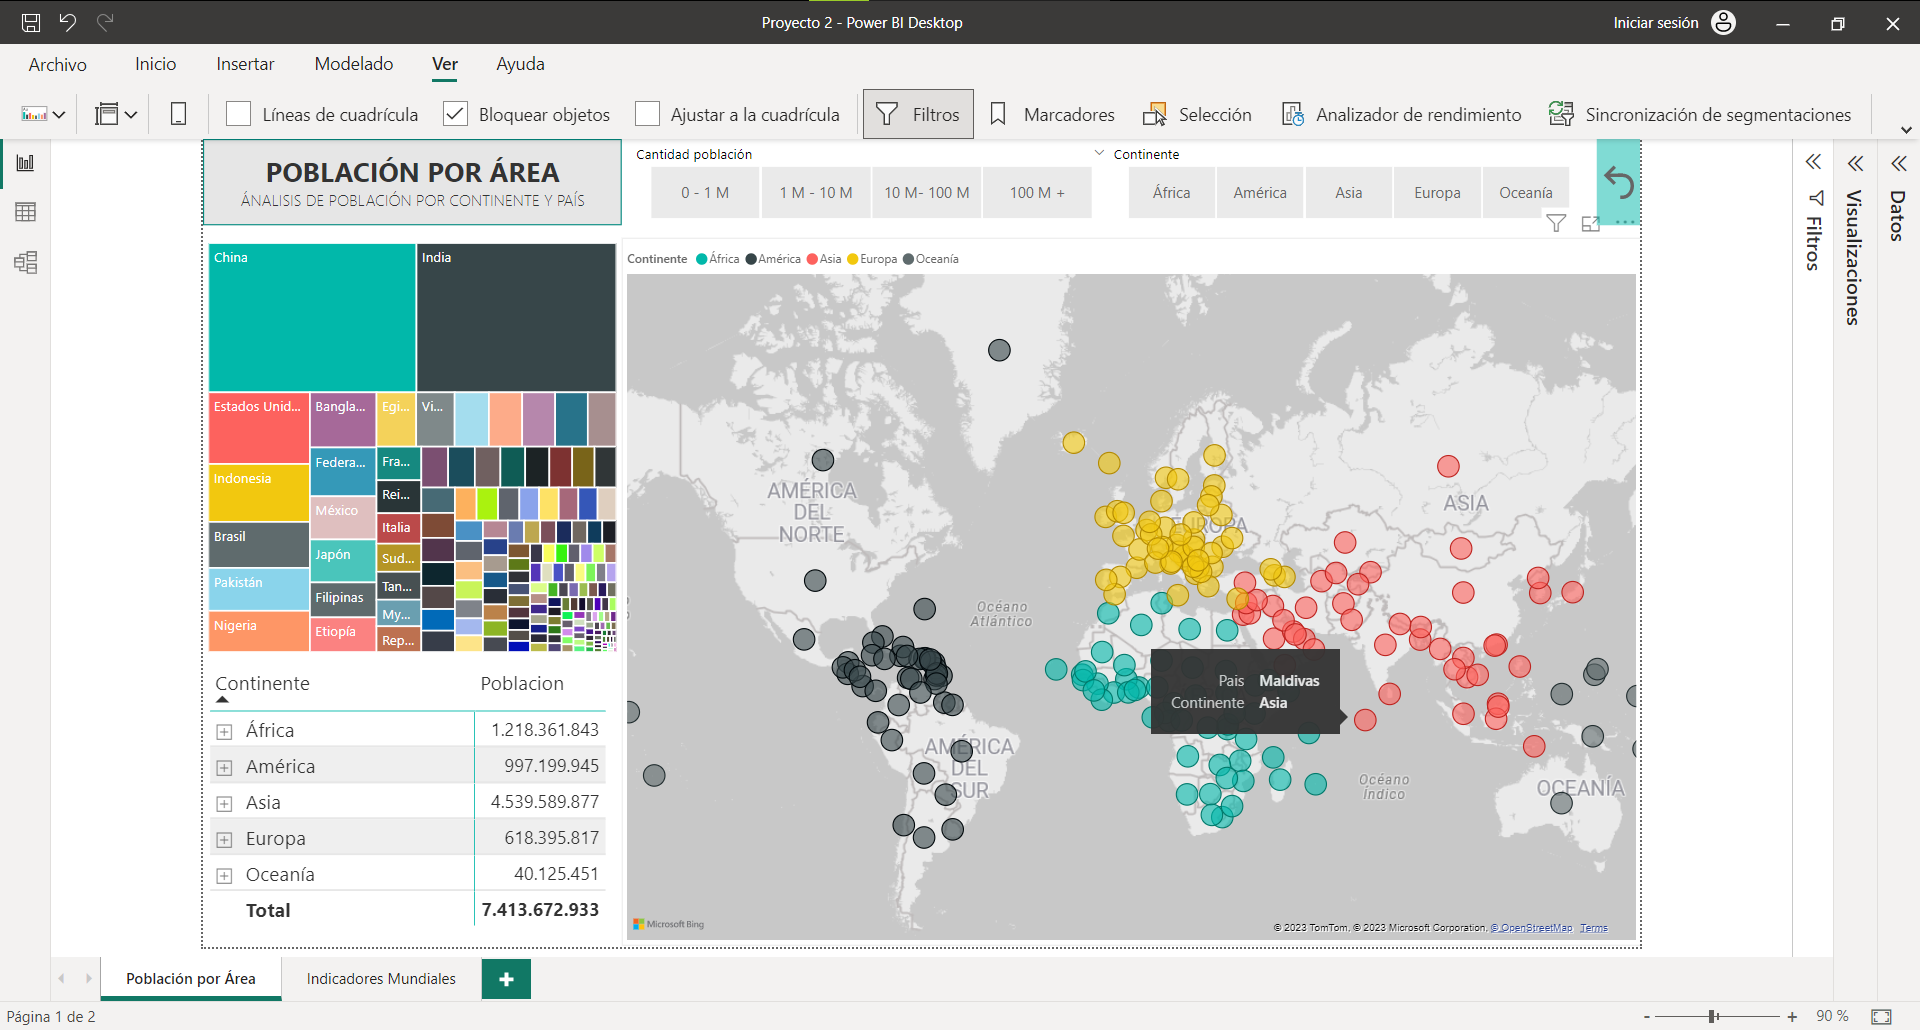

What the dashboard file says about the page in this screenshot:
{"tool":"powerbi","page":{"name":"Población por Área","canvas":[1280,720],"ordinal":0},"visuals":[{"type":"slicer","fields":{"Values":["Paises.Continente"]},"box":[798.2,0,442.6,77.1],"z":0,"group":"g1"},{"type":"treemap","fields":{"Group":["Paises.Pais"],"Values":["Sum(Poblacion.Population)"]},"box":[0,88,372.7,373.9],"z":0},{"type":"group","id":"g1","title":"Grupo 1","box":[372.7,0,868.3,77.2],"z":1000},{"type":"slicer","fields":{"Values":["Poblacion.Cantidad población"]},"box":[372.7,0,442.6,77.1],"z":1000,"group":"g1"},{"type":"azureMap","fields":{"Category":["Paises.Pais"],"Series":["Paises.Continente"]},"box":[372.7,88,908.1,630.8],"z":2000},{"type":"pivotTable","fields":{"Rows":["Paises.Continente","Paises.Pais"],"Values":["Sum(Poblacion.Poblacion)"]},"box":[0,461.9,372.7,258.1],"z":3000},{"type":"actionButton","box":[1241,0,39.8,77.2],"z":4000},{"type":"shape","box":[0,0,372.7,77.2],"z":5000},{"type":"textbox","box":[10.9,7.2,351,69.9],"z":6000}]}

Visuals, with their boxes on the page's 1280x720 design canvas (x1, y1, x2, y2). These are canvas units, not pixel positions in the 1920x1034 screenshot, which may show the page scaled, cropped or inside an application window:
slicer - Paises.Continente: 798, 0, 1241, 77
treemap - Paises.Pais x Sum(Poblacion.Population): 0, 88, 373, 462
"Grupo 1" group: 373, 0, 1241, 77
slicer - Poblacion.Cantidad población: 373, 0, 815, 77
azureMap - Paises.Pais x Paises.Continente: 373, 88, 1281, 719
pivotTable - Paises.Continente x Paises.Pais: 0, 462, 373, 720
actionButton: 1241, 0, 1281, 77
shape: 0, 0, 373, 77
textbox: 11, 7, 362, 77
